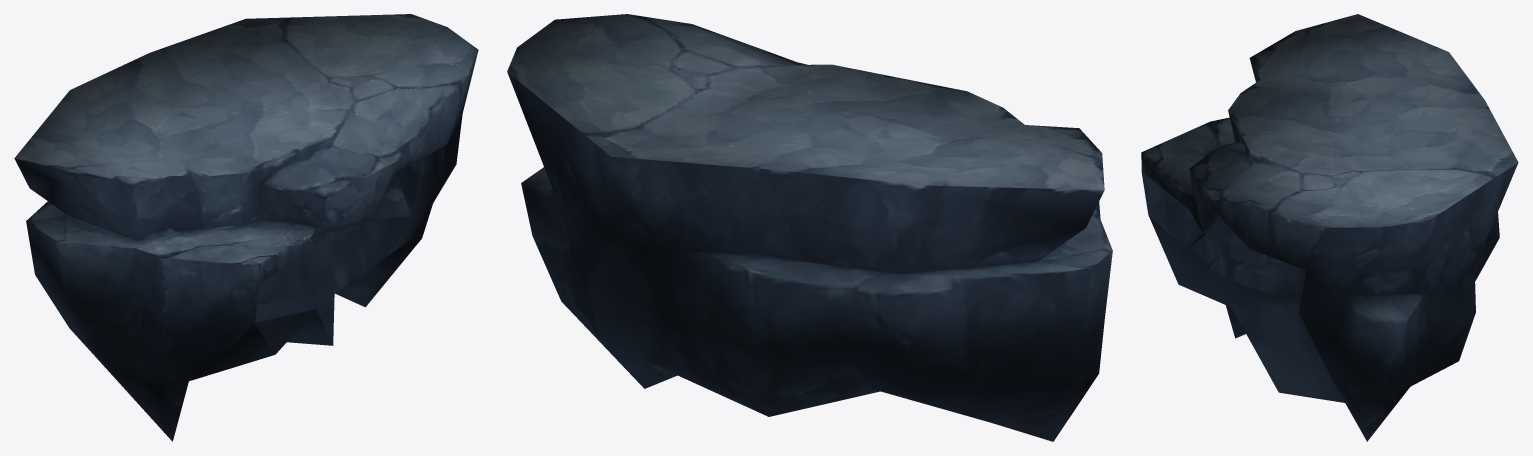
The model's file is Area_02_14.fbx.
3 renders of one model, left to right at view 1: azimuth 30°, elevation 25°; view 2: azimuth 150°, elevation 25°; view 3: azimuth 270°, elevation 25°, orthographic. The views are drawn at different scales.
Visible parts, largest first — view 1: Area_02_14; view 2: Area_02_14; view 3: Area_02_14.
Part boxes in pixels (bbox=[...]): Area_02_14: bbox=[14, 14, 478, 441]; Area_02_14: bbox=[507, 14, 1112, 441]; Area_02_14: bbox=[1141, 14, 1518, 441].
Size of the model in its own units: 1877 by 1114 by 1322.
